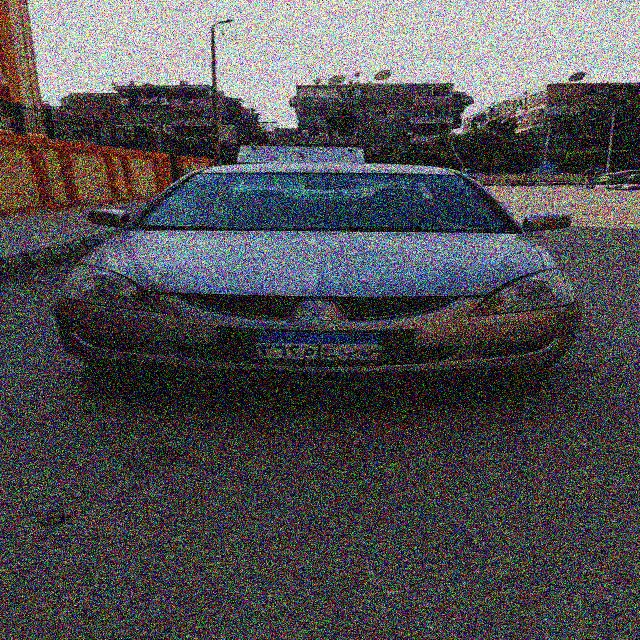License Plate: (251, 330, 385, 363)
